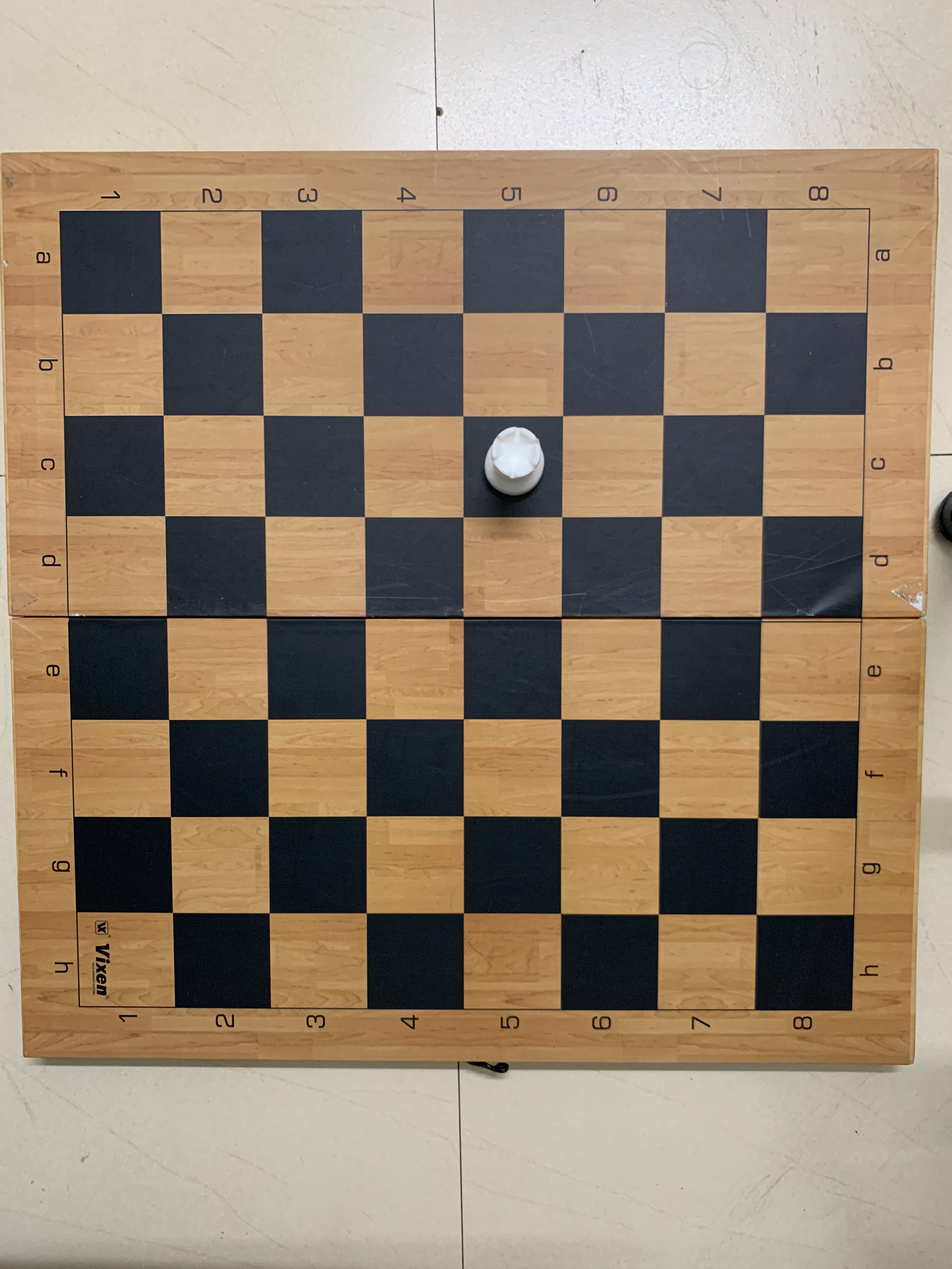white_rook: (463, 414, 564, 514)
